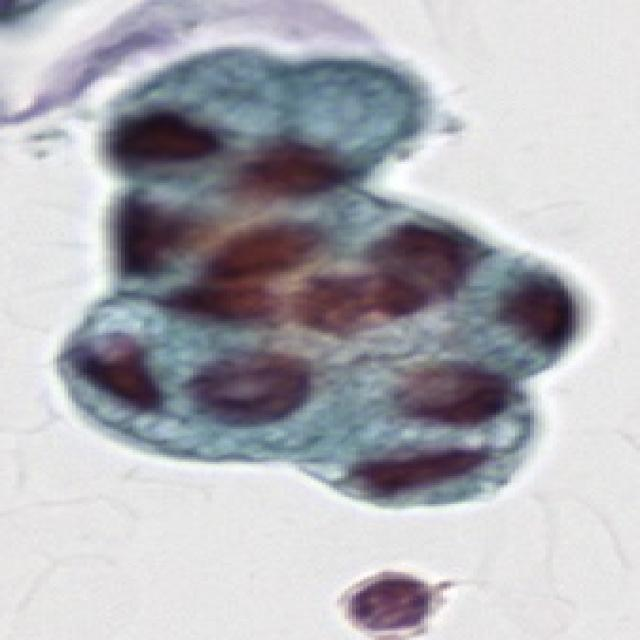cytoplasm: (36, 12, 622, 540)
nucleus: (150, 184, 357, 379), (277, 202, 486, 356), (89, 179, 206, 298), (58, 312, 186, 418), (481, 252, 594, 362), (180, 346, 313, 431), (241, 134, 368, 210), (391, 358, 512, 434), (349, 440, 494, 503), (105, 102, 223, 174)
